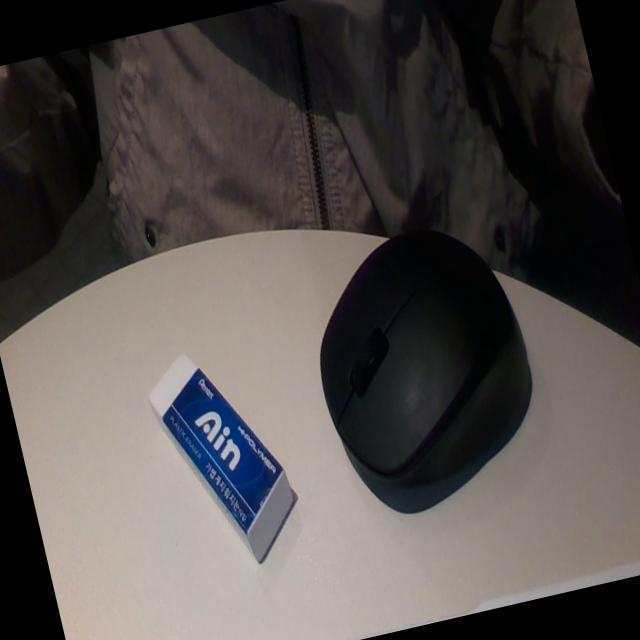eraser: (131, 298, 325, 618)
mouse: (288, 198, 570, 520)
